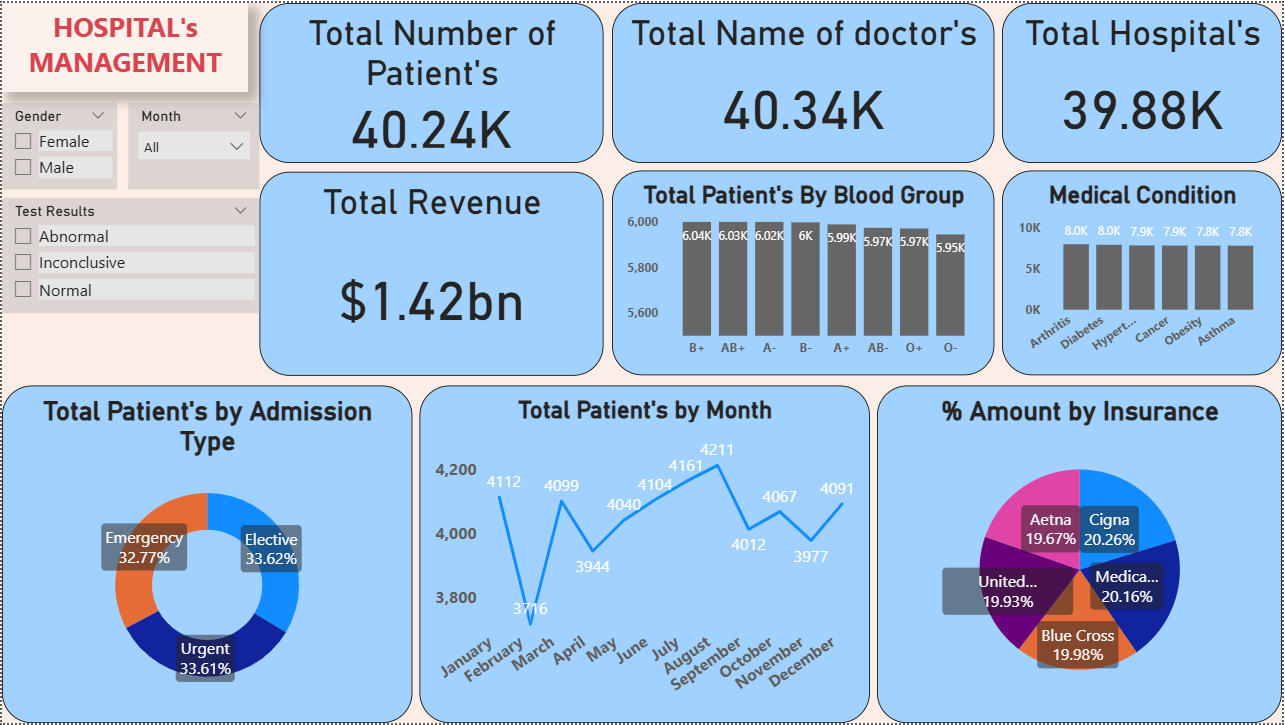

The page's visual inventory and layout, read from the dashboard file:
{"tool":"powerbi","page":{"name":"Page 1","canvas":[1280,720],"ordinal":0},"visuals":[{"type":"card","title":"Total Number of Patient''s","fields":{"Values":["healthcare_dataset(1).Name"]},"box":[257.5,0,343.8,160],"z":0},{"type":"card","title":"Total Name of doctor''s","fields":{"Values":["healthcare_dataset(1).Doctor"]},"box":[610,0,382.5,160],"z":1000},{"type":"card","title":"Total Revenue","fields":{"Values":["healthcare_dataset(1).Billing Amount"]},"box":[257.5,168.8,343.8,203.8],"z":2000},{"type":"card","title":"Total Hospital''s","fields":{"Values":["healthcare_dataset(1).Hospital"]},"box":[1000,0,280,160],"z":3000},{"type":"textbox","box":[0,0,246.2,88.8],"z":4000},{"type":"clusteredColumnChart","title":"Total Patient''s By Blood Group","fields":{"Category":["healthcare_dataset(1).Blood Type"],"Y":["healthcare_dataset(1).Name"]},"box":[610,167.5,382.5,205],"z":5000},{"type":"clusteredColumnChart","title":"Medical Condition","fields":{"Category":["healthcare_dataset(1).Medical Condition"],"Y":["healthcare_dataset(1).Name"]},"box":[1000,167.5,280,205],"z":6000},{"type":"lineChart","title":"Total Patient''s by Month","fields":{"Category":["healthcare_dataset(1).Date of Admission.Variation.Date Hierarchy.Month"],"Y":["healthcare_dataset(1).Name"]},"box":[417.5,382.5,450,337.5],"z":7000},{"type":"pieChart","title":"% Amount by Insurance","fields":{"Category":["healthcare_dataset(1).Insurance Provider"],"Y":["healthcare_dataset(1).Billing Amount"]},"box":[875,382.5,405,337.5],"z":8000},{"type":"donutChart","title":"Total Patient''s by Admission Type","fields":{"Category":["healthcare_dataset(1).Admission Type"],"Y":["healthcare_dataset(1).Name"]},"box":[0,382.5,410,337.5],"z":9000},{"type":"slicer","fields":{"Values":["healthcare_dataset(1).Gender"]},"box":[0,100,115,86.2],"z":10000},{"type":"slicer","fields":{"Values":["healthcare_dataset(1).Test Results"]},"box":[0,195,257.5,115],"z":11000},{"type":"slicer","fields":{"Values":["healthcare_dataset(1).Discharge Date.Variation.Date Hierarchy.Month"]},"box":[126.2,100,131.2,86.2],"z":12000}]}

Visuals, with their boxes in screenshot pixels (x1, y1, x2, y2), scaled from the page's 1280x720 canvas onto the 1285x725 screenshot:
"Total Number of Patient''s" card: left=259, top=0, right=604, bottom=161
"Total Name of doctor''s" card: left=612, top=0, right=996, bottom=161
"Total Revenue" card: left=259, top=170, right=604, bottom=375
"Total Hospital''s" card: left=1004, top=0, right=1284, bottom=161
textbox: left=0, top=0, right=247, bottom=89
"Total Patient''s By Blood Group" clusteredColumnChart: left=612, top=169, right=996, bottom=375
"Medical Condition" clusteredColumnChart: left=1004, top=169, right=1284, bottom=375
"Total Patient''s by Month" lineChart: left=419, top=385, right=871, bottom=724
"% Amount by Insurance" pieChart: left=878, top=385, right=1284, bottom=724
"Total Patient''s by Admission Type" donutChart: left=0, top=385, right=412, bottom=724
slicer - healthcare_dataset(1).Gender: left=0, top=101, right=115, bottom=187
slicer - healthcare_dataset(1).Test Results: left=0, top=196, right=259, bottom=312
slicer - healthcare_dataset(1).Discharge Date.Variation.Date Hierarchy.Month: left=127, top=101, right=258, bottom=187
